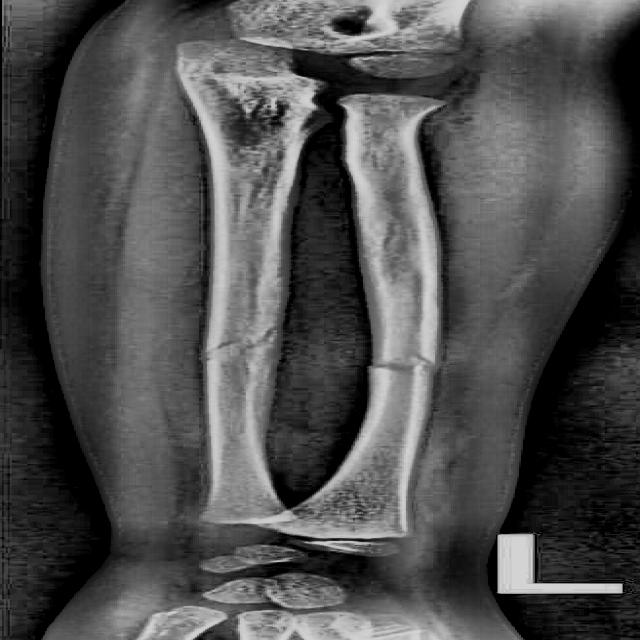line: (203, 326, 281, 362), (369, 355, 441, 375)
